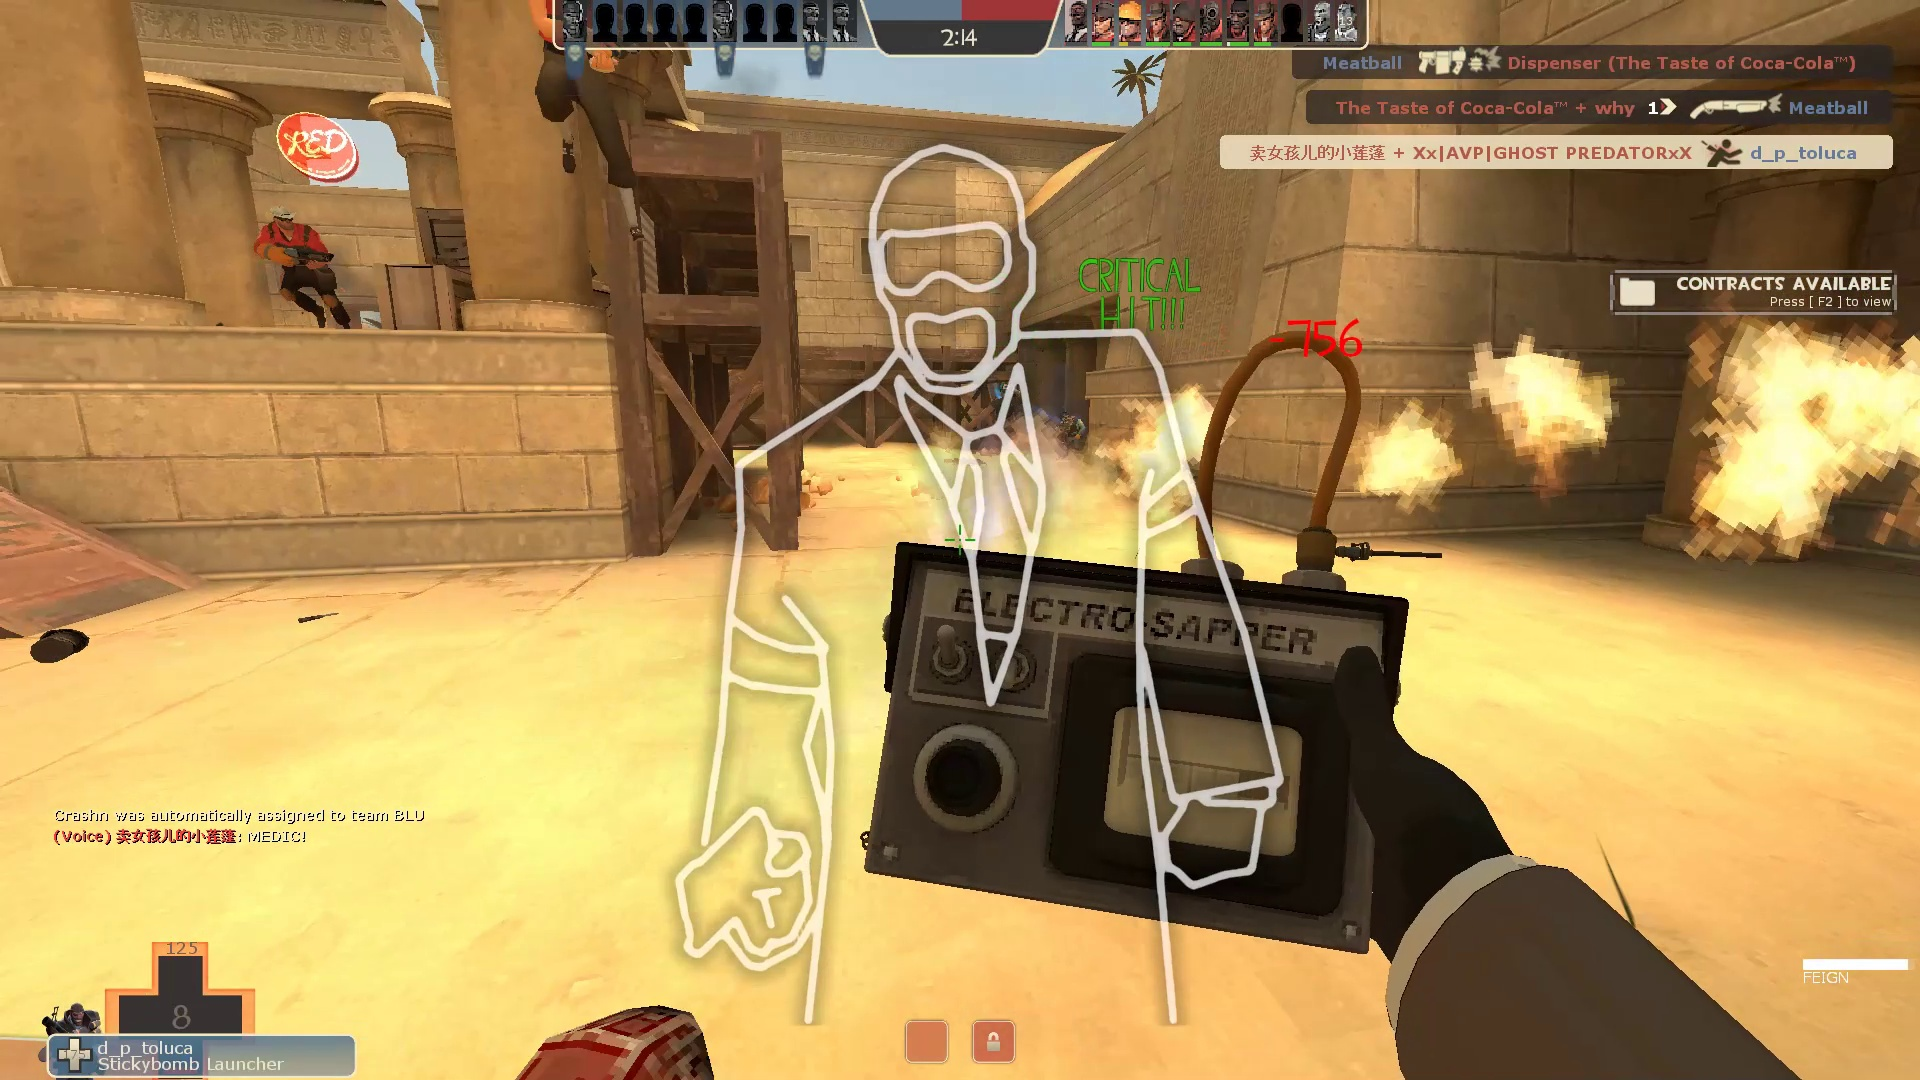blu_medic: (992, 378, 1025, 429)
red_engineer: (251, 200, 357, 339)
red_scout: (516, 1, 674, 270)
